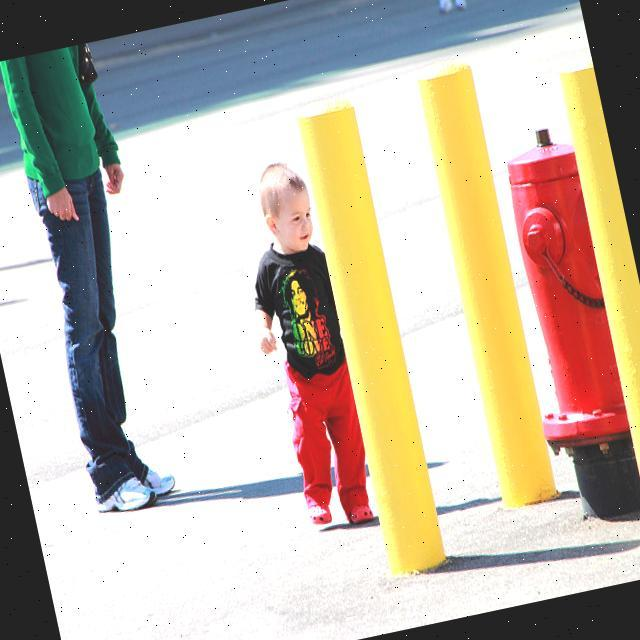fire_hydrant: (480, 119, 640, 527)
